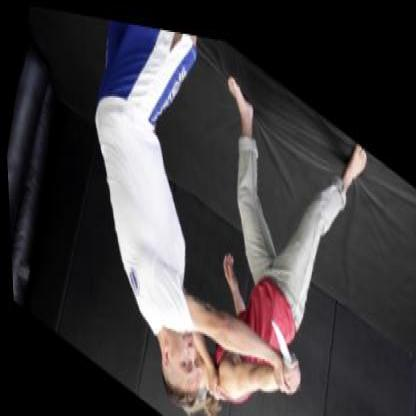knife: (256, 300, 308, 388)
